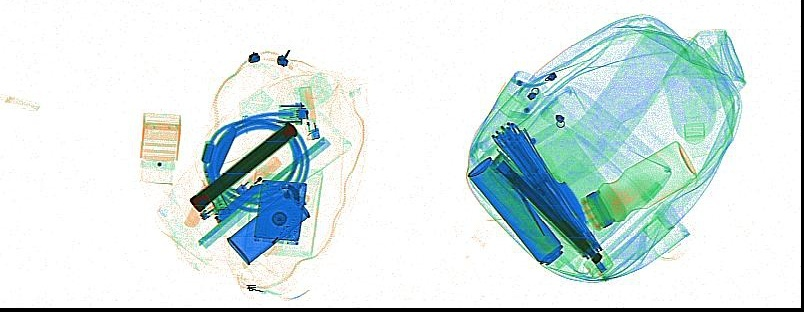knife: (519, 135, 588, 225), (182, 125, 236, 227)
lighter: (197, 181, 245, 220), (233, 154, 280, 193), (299, 85, 319, 141)
pressure: (466, 156, 563, 265)
zippooil: (226, 191, 309, 265)
